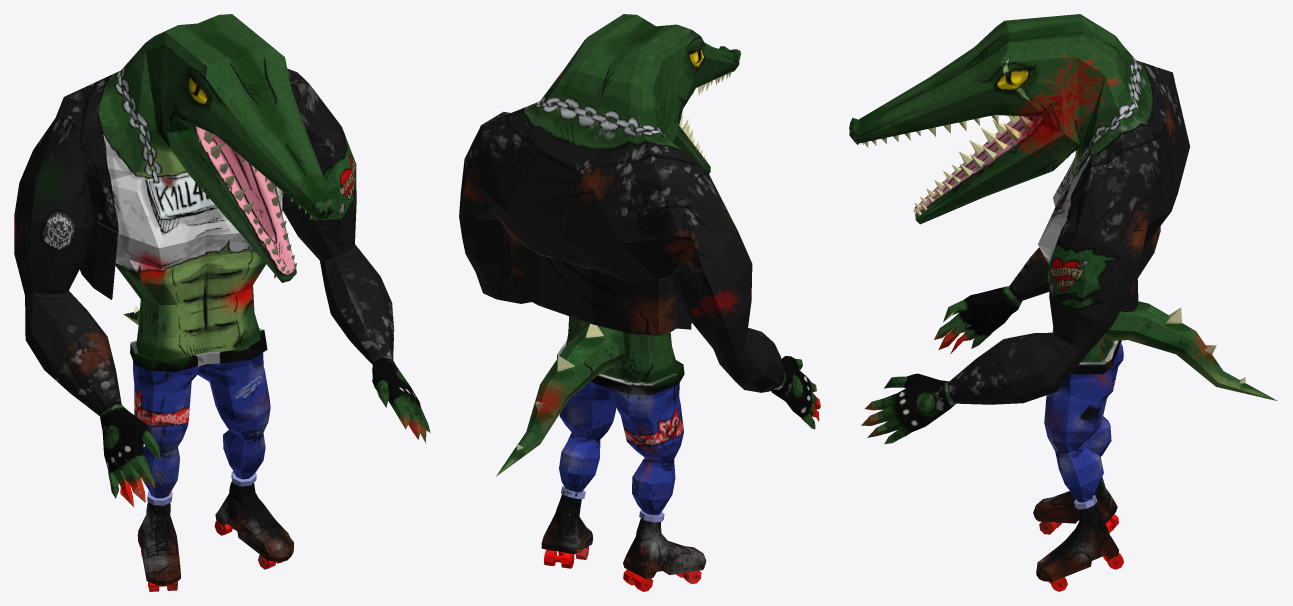
The model's file is cocodrilaBonesSelect_000038.obj.
3 renders of one model, left to right at view 1: azimuth 30°, elevation 25°; view 2: azimuth 150°, elevation 25°; view 3: azimuth 270°, elevation 25°, orthographic. The views are drawn at different scales.
Parts seen in each view (by area): view 1: Crocodile.002_Cylinder.002; view 2: Crocodile.002_Cylinder.002; view 3: Crocodile.002_Cylinder.002.
Part boxes in pixels (box(x1,y1,x2,y2)): Crocodile.002_Cylinder.002: box(14, 14, 430, 591); Crocodile.002_Cylinder.002: box(459, 14, 820, 591); Crocodile.002_Cylinder.002: box(849, 14, 1277, 591).
Size of the model in its own units: 4.12 by 6.74 by 4.94.
